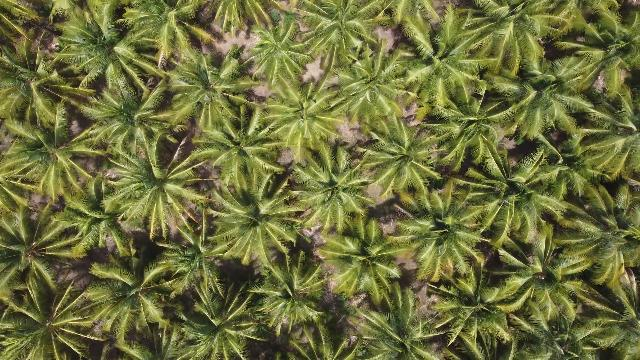trees: (63, 250, 193, 359), (101, 134, 216, 244), (467, 152, 578, 257), (203, 168, 307, 274), (417, 75, 521, 178), (2, 28, 94, 143), (193, 98, 289, 197), (157, 46, 256, 140), (403, 192, 498, 287), (425, 264, 522, 357), (549, 191, 640, 289), (434, 4, 541, 86), (76, 72, 174, 160), (316, 220, 411, 310), (293, 146, 382, 239), (328, 43, 416, 132), (253, 70, 340, 160), (352, 119, 438, 210), (252, 253, 336, 343), (48, 174, 130, 260), (295, 4, 392, 75), (553, 125, 638, 204), (354, 287, 447, 359), (56, 9, 138, 90), (118, 3, 209, 72), (561, 6, 640, 83), (565, 277, 640, 358), (499, 83, 585, 152), (2, 201, 73, 280), (242, 19, 314, 90), (210, 3, 276, 40)
